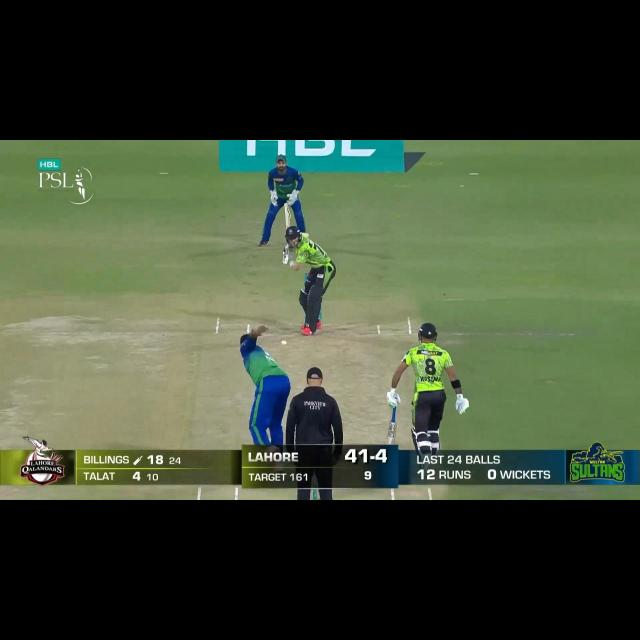bat: (386, 423, 401, 444), (282, 202, 291, 229)
toe: (281, 203, 291, 211)
